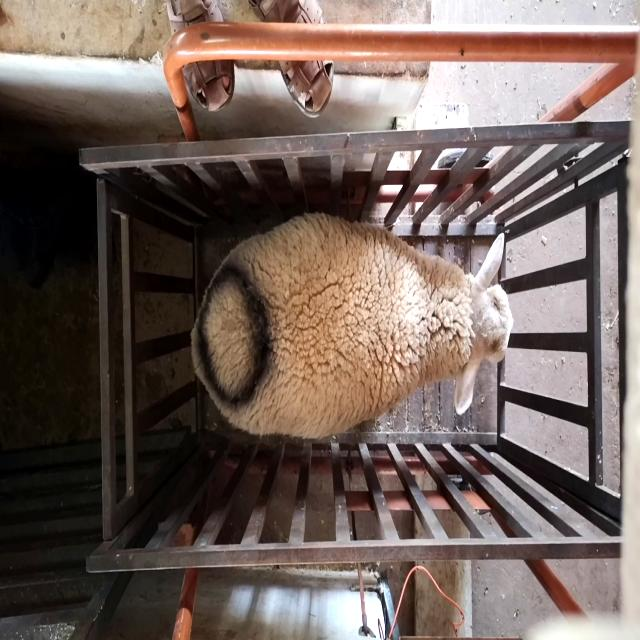sheep: (190, 212, 513, 439)
